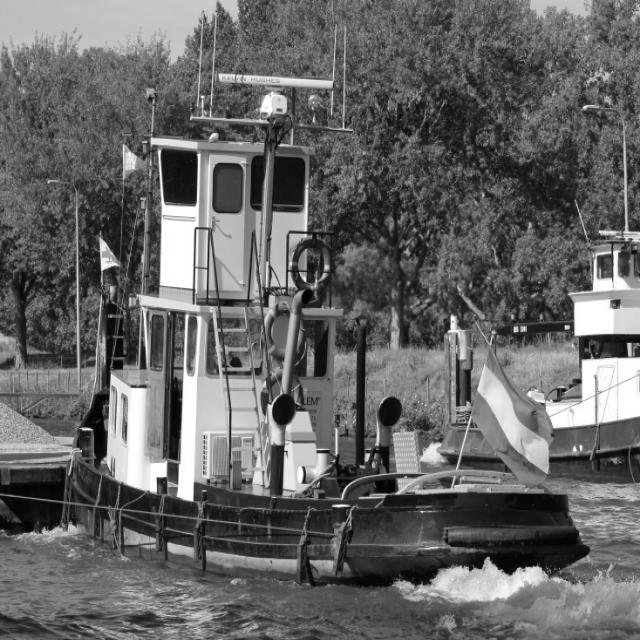tugboat: (61, 69, 596, 598)
